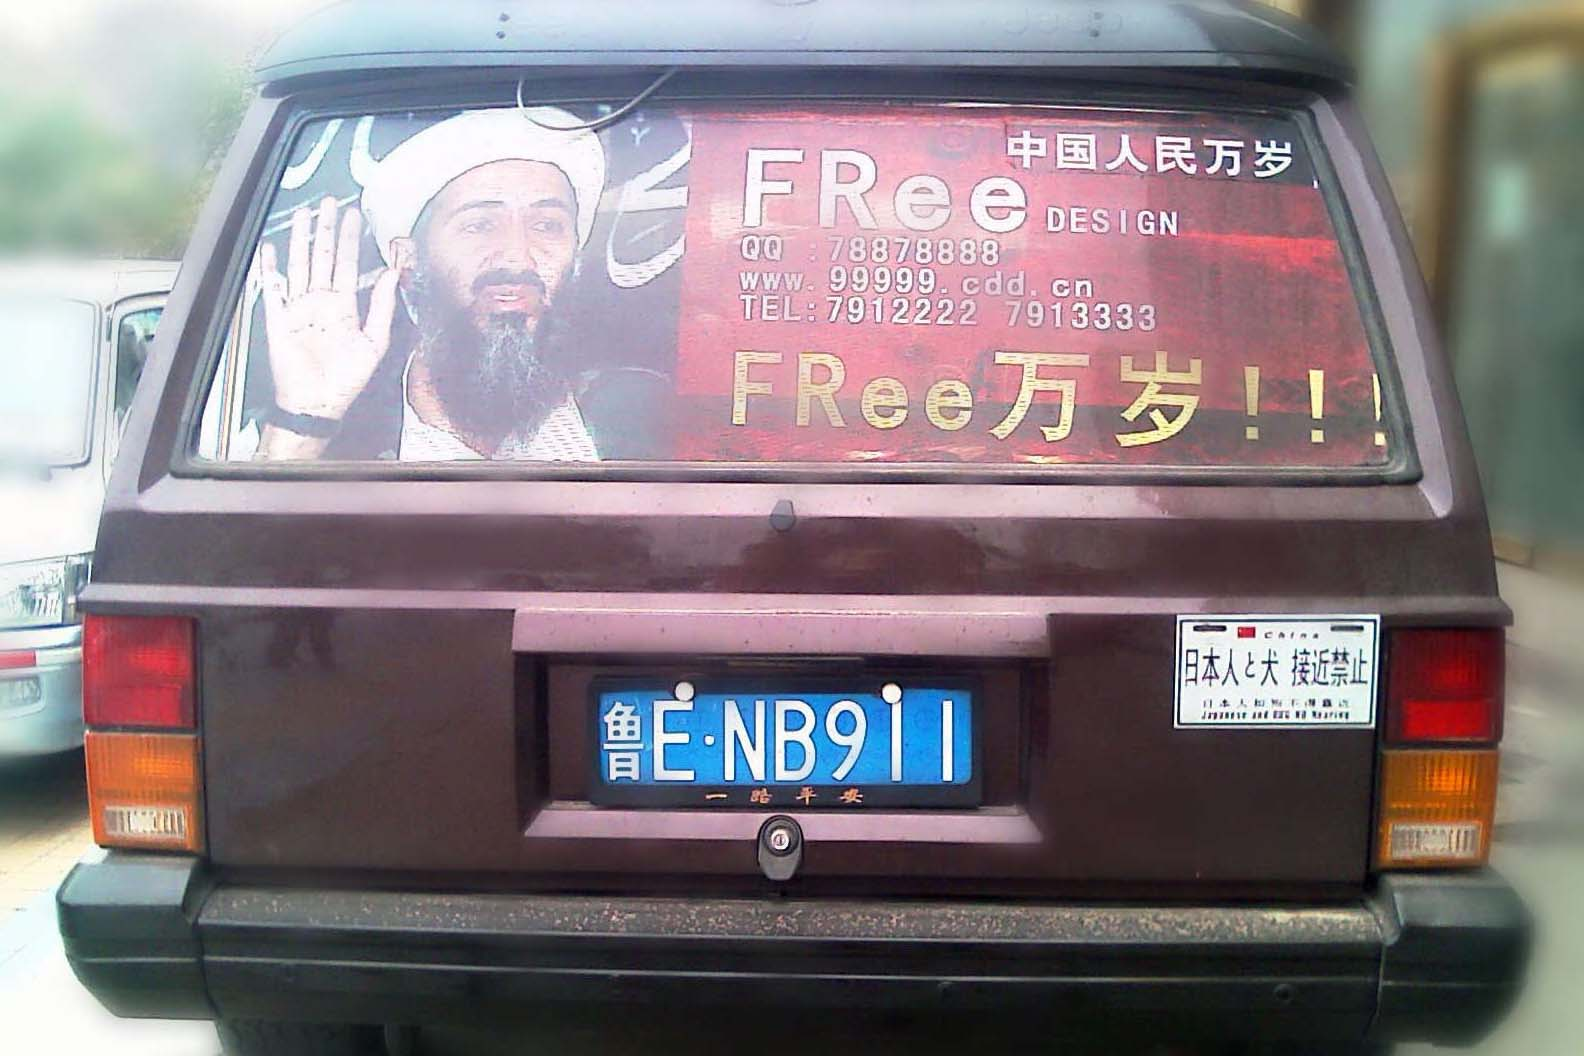plate_number: (589, 690, 980, 793)
